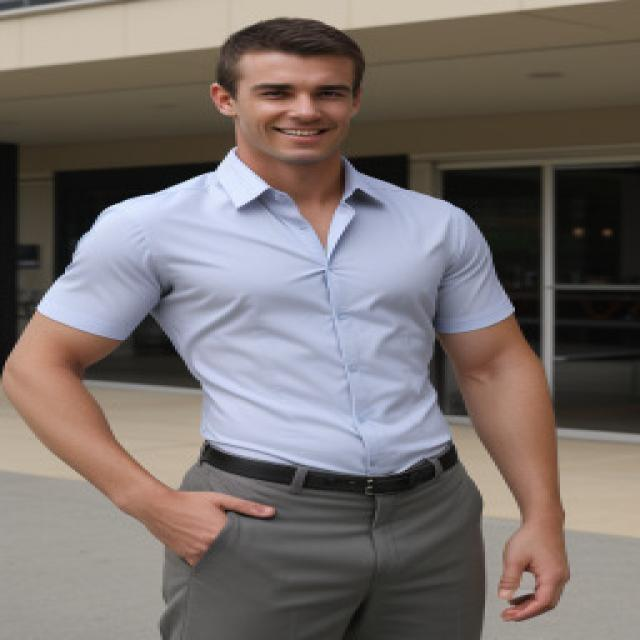Ai human 2: (9, 14, 609, 640)
